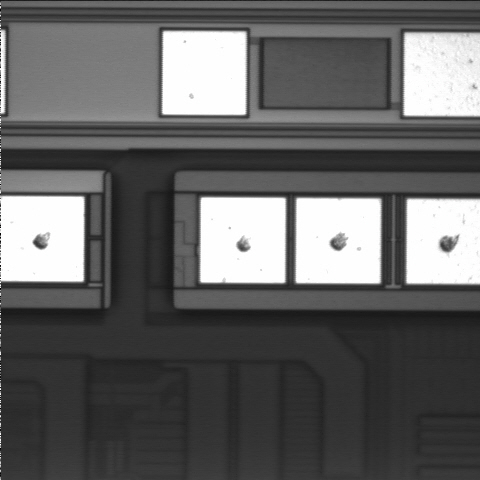pad: (200, 198, 286, 283), (296, 198, 381, 283), (162, 31, 246, 115)
